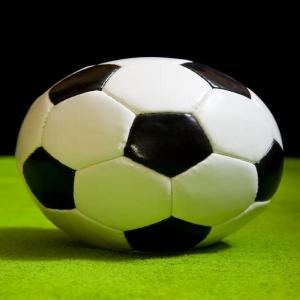Football: (12, 54, 287, 260)
